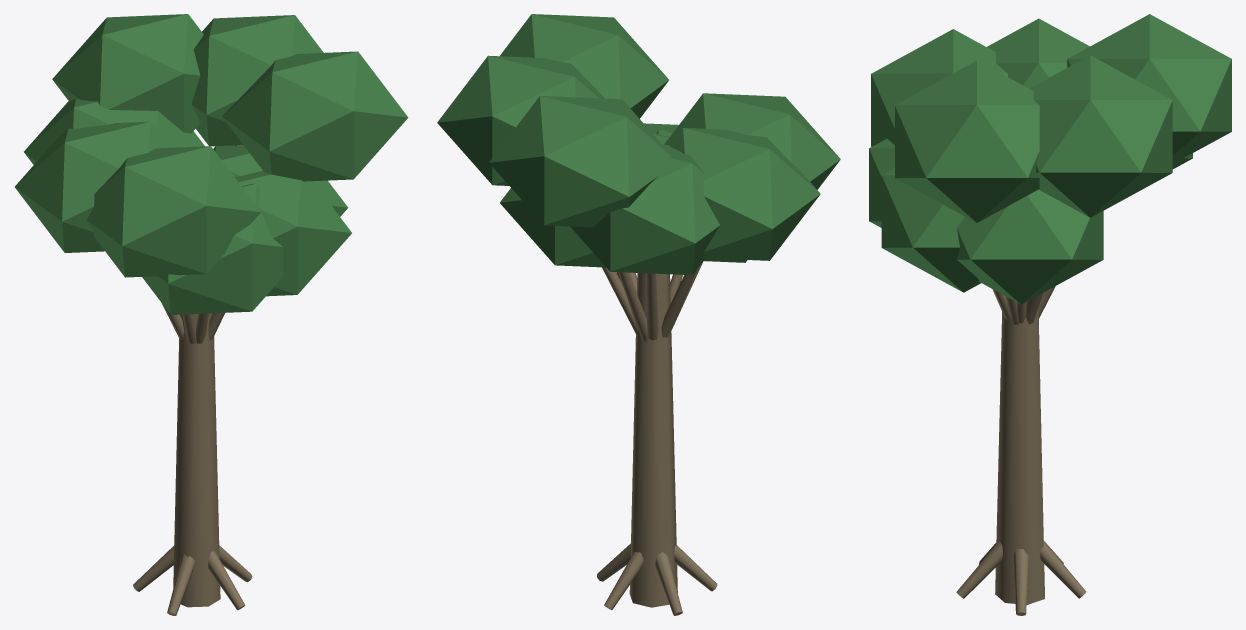
File: kapok.glb
The picture shows the model from 3 angles, left to right: view 1: azimuth 30°, elevation 25°; view 2: azimuth 150°, elevation 25°; view 3: azimuth 270°, elevation 25°; orthographic projection. The views are drawn at different scales.
Visible parts, largest first — view 1: Капок; view 2: Капок; view 3: Капок.
Boxes of the visible parts, x1=… form: Капок: x1=15, y1=14, x2=408, y2=615; Капок: x1=437, y1=14, x2=840, y2=615; Капок: x1=869, y1=14, x2=1231, y2=615.
Size of the model in its own units: 9.72 by 15.42 by 9.01.
